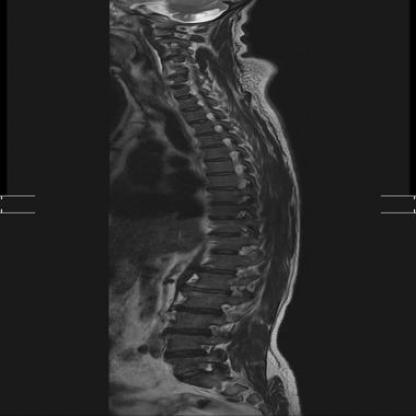Annular Tearrotation: (162, 347, 208, 362)
Disc Bulgerotation: (162, 347, 208, 362), (167, 324, 212, 339), (177, 303, 222, 318)
Disc Protrusionrotation: (179, 285, 235, 298), (162, 51, 182, 62)
